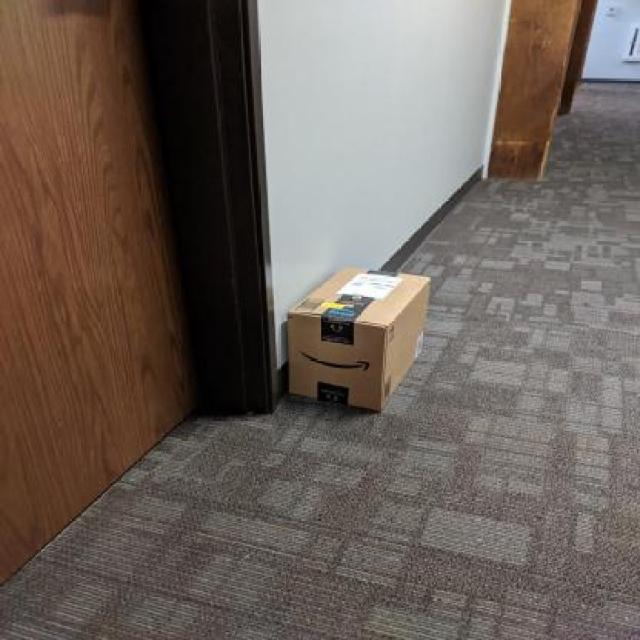cardboxes: (283, 266, 431, 416)
